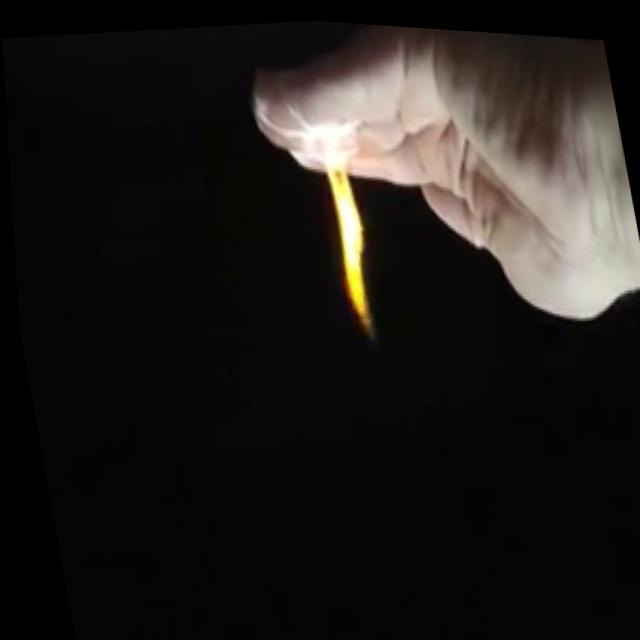Fire: (312, 106, 370, 234)
